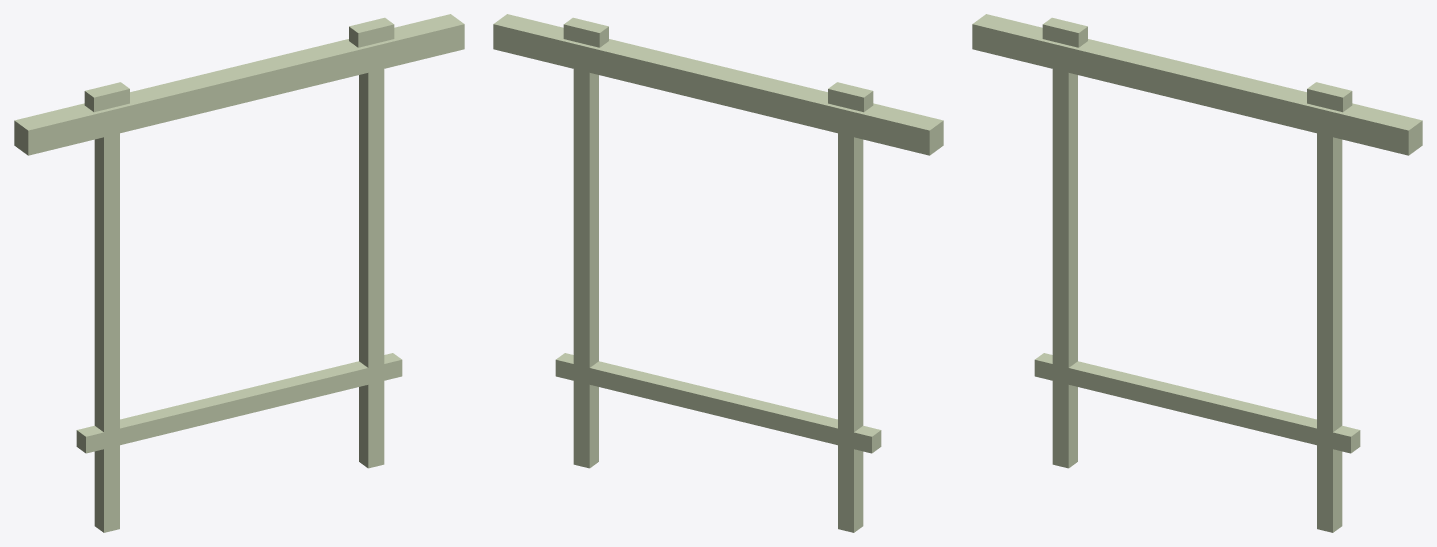
The model's file is furniture_signal_cantilever_dropper_pair.glb.
The picture shows the model from 3 angles, left to right: view 1: azimuth 30°, elevation 25°; view 2: azimuth 150°, elevation 25°; view 3: azimuth 330°, elevation 25°; orthographic projection.
Parts seen in each view (by area): view 1: hanger_beam, dropper_left, dropper_right, cross_tie, clamp_left, clamp_right; view 2: hanger_beam, dropper_right, dropper_left, cross_tie, clamp_left, clamp_right; view 3: hanger_beam, dropper_left, dropper_right, cross_tie, clamp_right, clamp_left.
Part boxes in pixels (x1,y1,x2,y2): hanger_beam: [14, 14, 464, 155]; dropper_left: [94, 133, 119, 532]; dropper_right: [359, 69, 384, 468]; cross_tie: [76, 353, 402, 453]; clamp_left: [84, 82, 129, 112]; clamp_right: [349, 17, 394, 47]; hanger_beam: [493, 14, 943, 155]; dropper_right: [573, 69, 598, 468]; dropper_left: [838, 133, 863, 532]; cross_tie: [555, 353, 881, 453]; clamp_left: [828, 82, 873, 112]; clamp_right: [563, 17, 608, 47]; hanger_beam: [972, 14, 1422, 155]; dropper_left: [1052, 69, 1077, 468]; dropper_right: [1317, 133, 1342, 532]; cross_tie: [1034, 353, 1360, 453]; clamp_right: [1307, 82, 1352, 112]; clamp_left: [1042, 17, 1087, 47].
Size of the model in its own units: 2.18 by 2.09 by 0.12.
